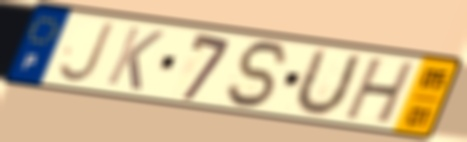7: (179, 30, 233, 103)
H: (340, 56, 420, 127)
J: (56, 19, 118, 85)
K: (102, 24, 168, 94)
S: (225, 39, 294, 111)
U: (288, 46, 365, 119)
